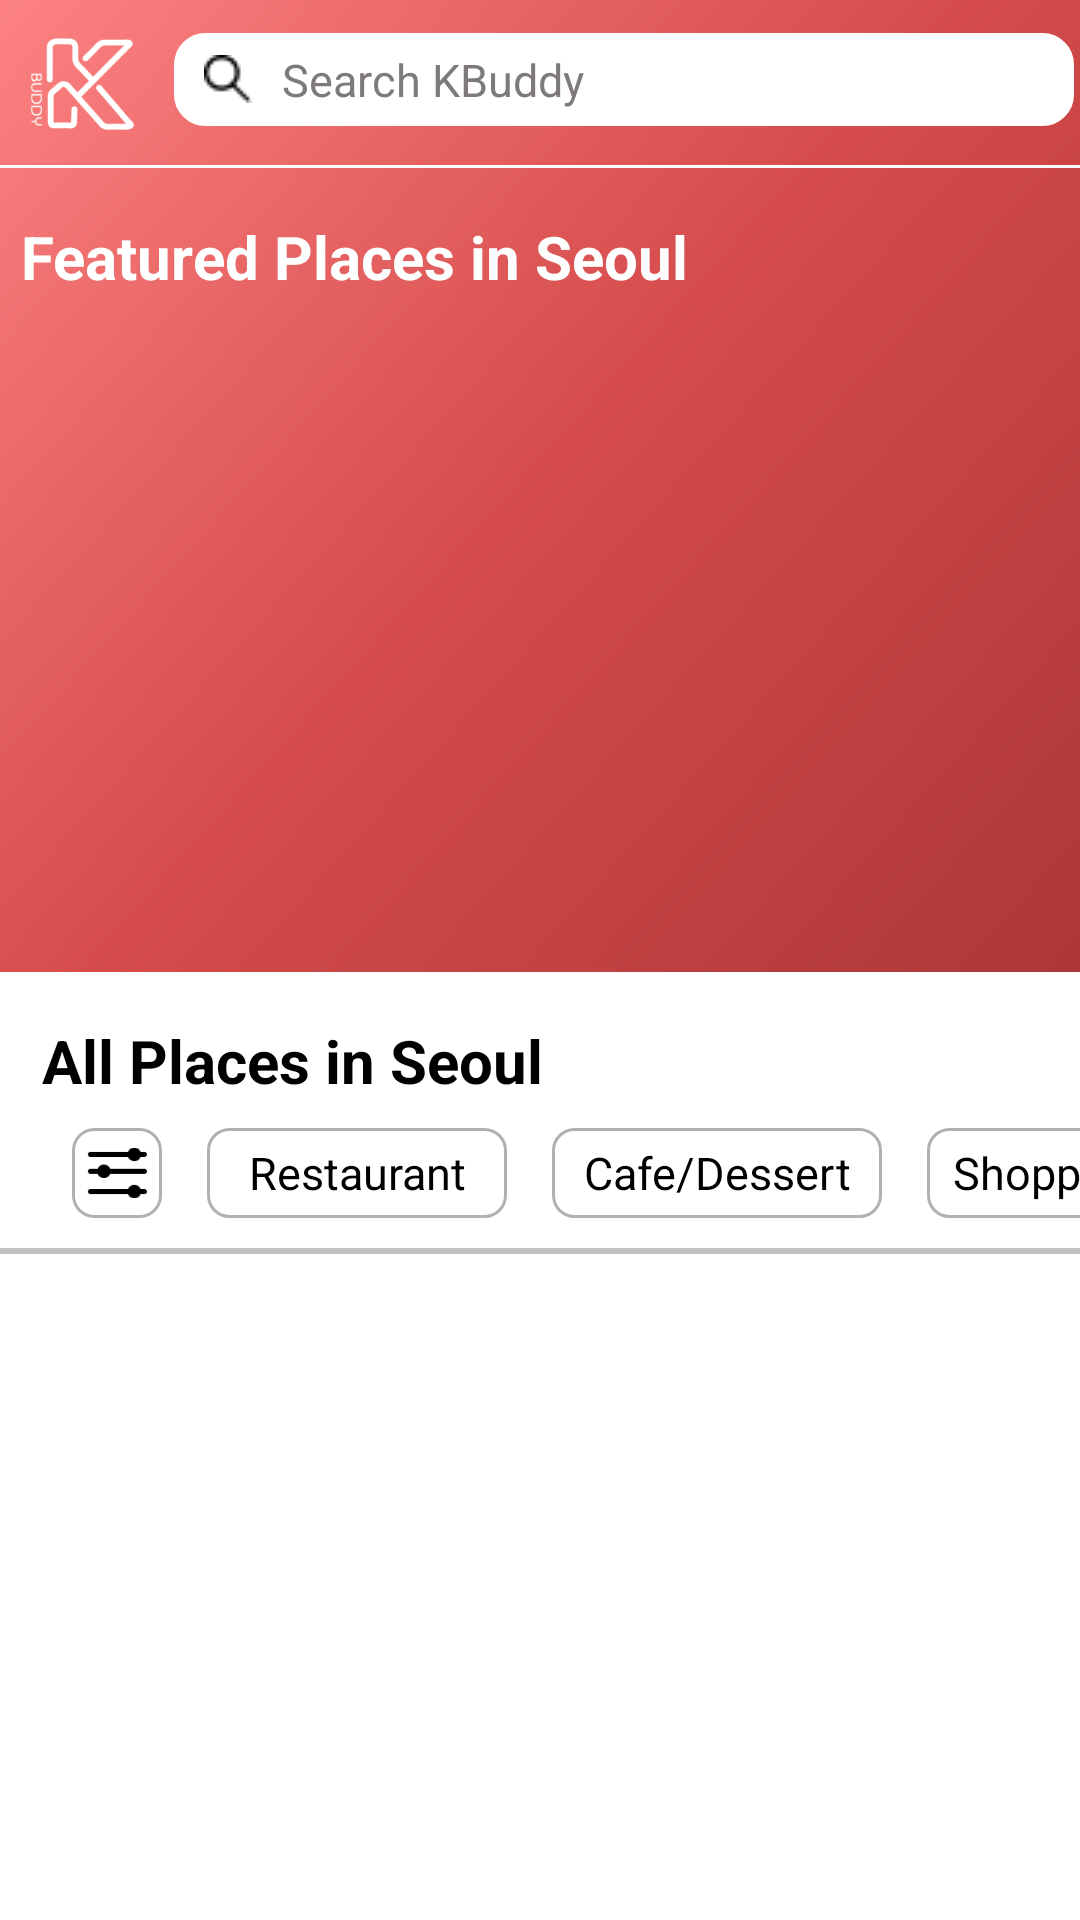

Icon bounding boxes for this 1080px x 1920px phone screenshot, format (x1, y1, x2, y2):
filter: (72, 1128, 162, 1218)
